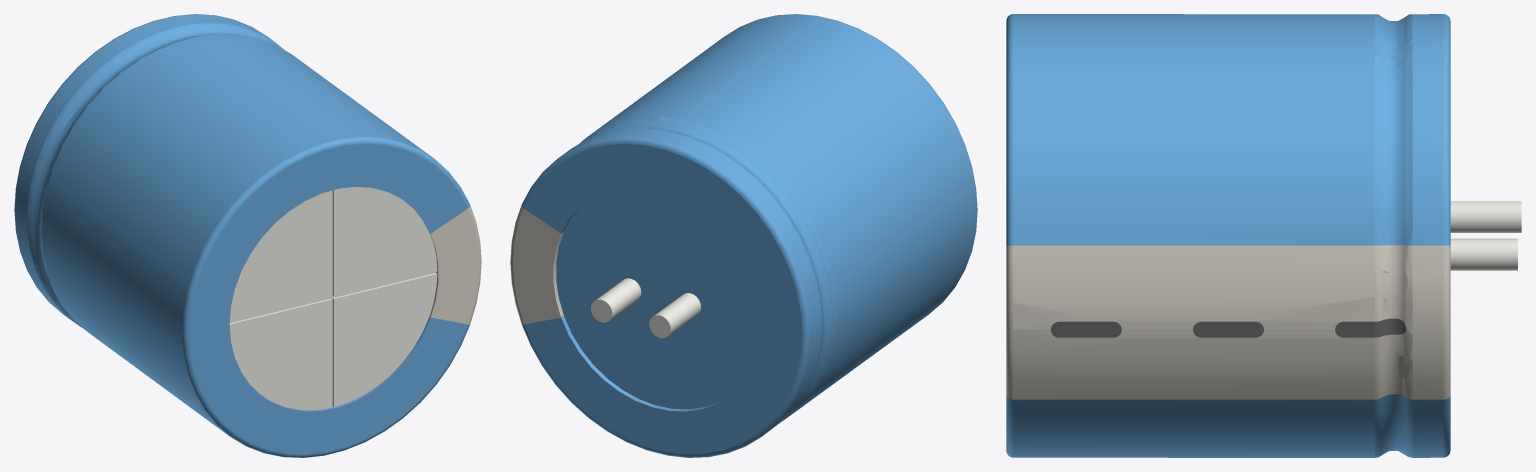
The model's file is CP_Radial_D12.5mm_P2.50mm.glb.
3 renders of one model, left to right at view 1: azimuth 30°, elevation 25°; view 2: azimuth 150°, elevation 25°; view 3: azimuth 270°, elevation 25°, orthographic. The views are drawn at different scales.
Visible parts, largest first — view 1: Shape_IndexedFaceSet.023, Shape_IndexedFaceSet.031, Shape_IndexedFaceSet.035, Shape_IndexedFaceSet.041, Shape_IndexedFaceSet.037, Shape_IndexedFaceSet.044, Shape_IndexedFaceSet.011, Shape_IndexedFaceSet.026, Shape_IndexedFaceSet.032, Shape_IndexedFaceSet.015, Shape_IndexedFaceSet.013, Shape_IndexedFaceSet.038 (+2 smaller); view 2: Shape_IndexedFaceSet.023, Shape_IndexedFaceSet.002, Shape_IndexedFaceSet.006, Shape_IndexedFaceSet.011, Shape_IndexedFaceSet.009, Shape_IndexedFaceSet.007, Shape_IndexedFaceSet.015, Shape_IndexedFaceSet.019, Shape_IndexedFaceSet.005, Shape_IndexedFaceSet.001, Shape_IndexedFaceSet.003, Shape_IndexedFaceSet.013 (+1 smaller); view 3: Shape_IndexedFaceSet.023, Shape_IndexedFaceSet.025, Shape_IndexedFaceSet.011, Shape_IndexedFaceSet.015, Shape_IndexedFaceSet.012, Shape_IndexedFaceSet.019, Shape_IndexedFaceSet.013, Shape_IndexedFaceSet.026, Shape_IndexedFaceSet.009, Shape_IndexedFaceSet.005, Shape_IndexedFaceSet.001, Shape_IndexedFaceSet.016 (+8 smaller).
Boxes of the visible parts, x1,y1,x2,y2 form: Shape_IndexedFaceSet.023: (42,34,432,435); Shape_IndexedFaceSet.031: (189,143,467,454); Shape_IndexedFaceSet.035: (334,274,437,406); Shape_IndexedFaceSet.041: (229,300,331,410); Shape_IndexedFaceSet.037: (334,187,437,296); Shape_IndexedFaceSet.044: (230,191,331,321); Shape_IndexedFaceSet.011: (15,14,275,323); Shape_IndexedFaceSet.026: (182,136,470,457); Shape_IndexedFaceSet.032: (431,209,478,324); Shape_IndexedFaceSet.015: (31,27,270,316); Shape_IndexedFaceSet.013: (27,23,283,327); Shape_IndexedFaceSet.038: (229,190,435,406); Shape_IndexedFaceSet.023: (588,14,976,415); Shape_IndexedFaceSet.002: (556,187,762,409); Shape_IndexedFaceSet.006: (524,143,802,454); Shape_IndexedFaceSet.011: (559,128,821,435); Shape_IndexedFaceSet.009: (521,136,809,457); Shape_IndexedFaceSet.007: (513,209,560,324); Shape_IndexedFaceSet.015: (592,121,831,409); Shape_IndexedFaceSet.019: (579,117,836,420); Shape_IndexedFaceSet.005: (654,293,700,335); Shape_IndexedFaceSet.001: (596,278,641,319); Shape_IndexedFaceSet.003: (561,202,729,411); Shape_IndexedFaceSet.013: (628,127,822,416); Shape_IndexedFaceSet.023: (1013,14,1374,457); Shape_IndexedFaceSet.025: (1013,245,1374,399); Shape_IndexedFaceSet.011: (1412,14,1443,457); Shape_IndexedFaceSet.015: (1382,17,1405,454); Shape_IndexedFaceSet.012: (1412,245,1443,399); Shape_IndexedFaceSet.019: (1374,14,1381,457); Shape_IndexedFaceSet.013: (1405,14,1412,457); Shape_IndexedFaceSet.026: (1006,14,1013,457); Shape_IndexedFaceSet.009: (1443,14,1450,457); Shape_IndexedFaceSet.005: (1450,201,1521,232); Shape_IndexedFaceSet.001: (1450,238,1517,270); Shape_IndexedFaceSet.016: (1382,245,1405,324).
Bounding box in the file's own units: 4.92 × 4.92 × 5.71.
